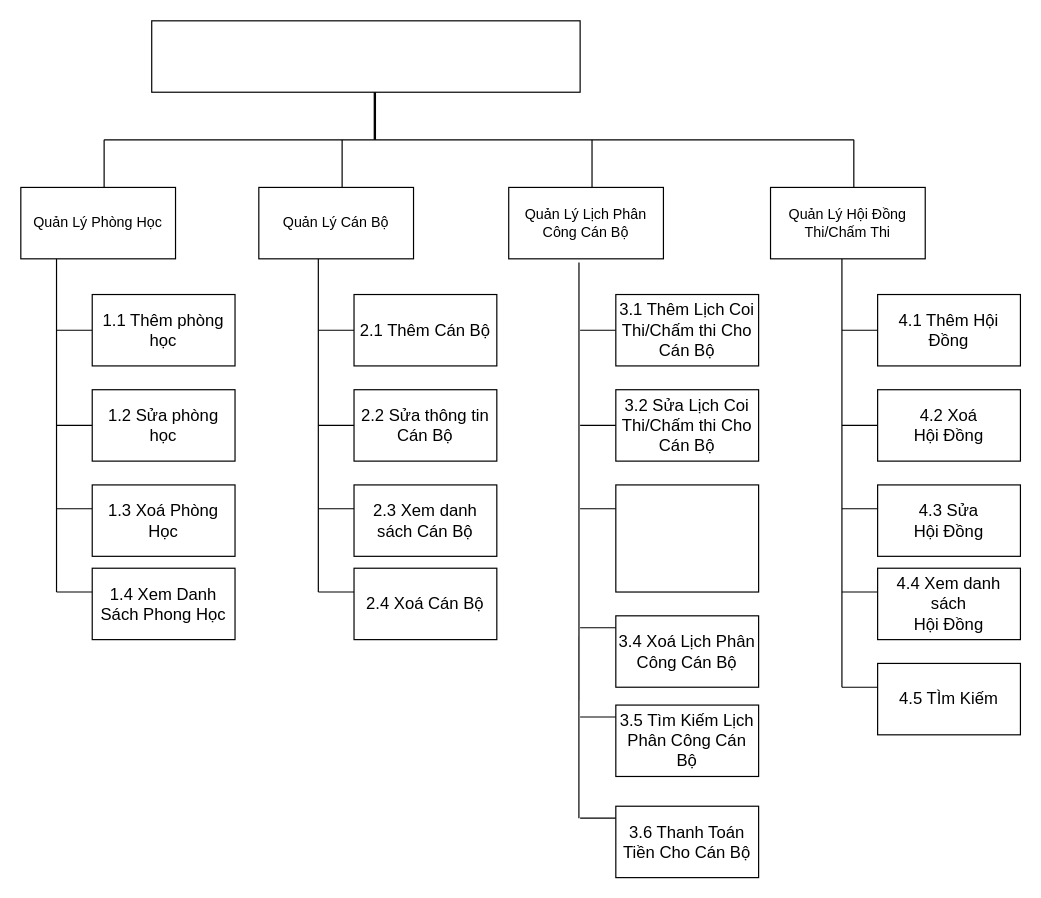
This 1041x898 diagram has some shape labels left out. The shapes that lost their labels are listed below. From the top down, each one's centre as x and y in pixels, then its label:
At pixel 365 56: "Quản Lý Phân Công Cán Bộ Coi Thi/ Chấm Thi".
At pixel 687 538: "3.3 Xem danh sách Lịch Coi Thi/Chấm thi Cho Cán Bộ".
